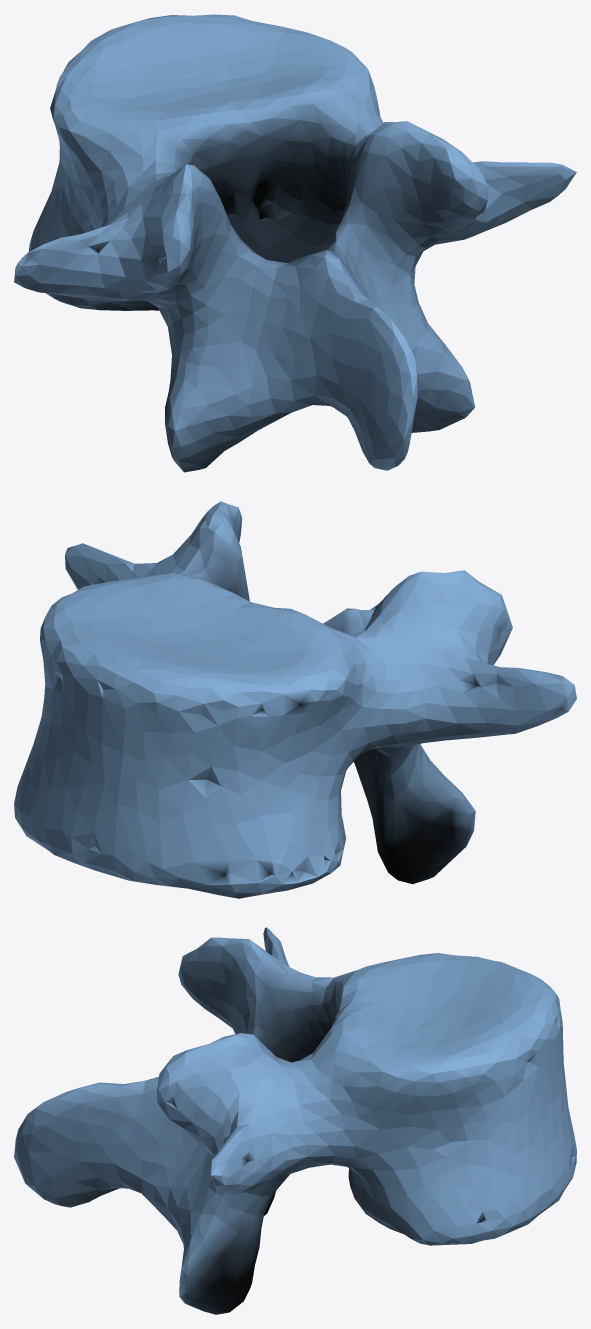
File: Geometry5_lao_11k.dae
The picture shows the model from 3 angles, top to bottom: view 1: azimuth 30°, elevation 25°; view 2: azimuth 150°, elevation 25°; view 3: azimuth 270°, elevation 25°; orthographic projection. The views are drawn at different scales.
Visible parts, largest first — view 1: node; view 2: node; view 3: node.
Part boxes in pixels (x1,y1,x2,y2): node: (14,14,576,472); node: (14,501,576,898); node: (14,927,576,1314).
Bounding box in the file's own units: 82.66 × 45.96 × 84.32.
